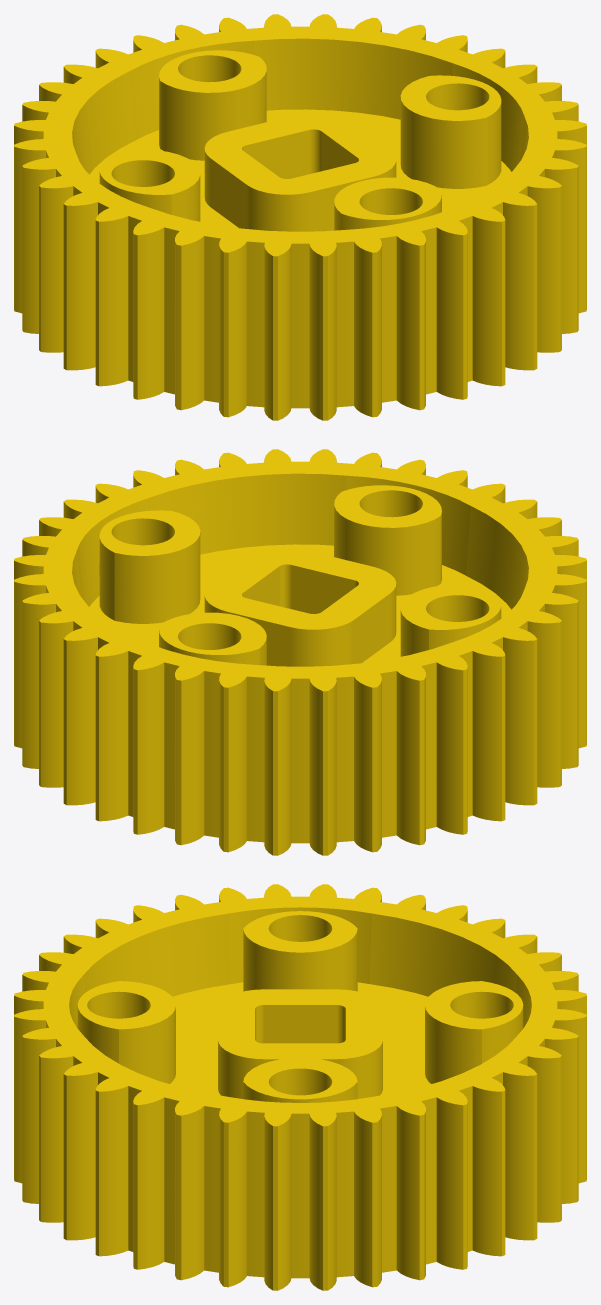
File: small-gear.glb
3 views of the same model, one above another, from view 1: azimuth 30°, elevation 25°; view 2: azimuth 150°, elevation 25°; view 3: azimuth 270°, elevation 25° (orthographic).
Parts seen in each view (by area): view 1: Body1; view 2: Body1; view 3: Body1.
Boxes of the visible parts, <box> form: Body1: <box>14,14,586,420</box>; Body1: <box>14,449,586,855</box>; Body1: <box>14,884,586,1290</box>.
Bounding box in the file's own units: 40.08 × 12.7 × 40.08.
